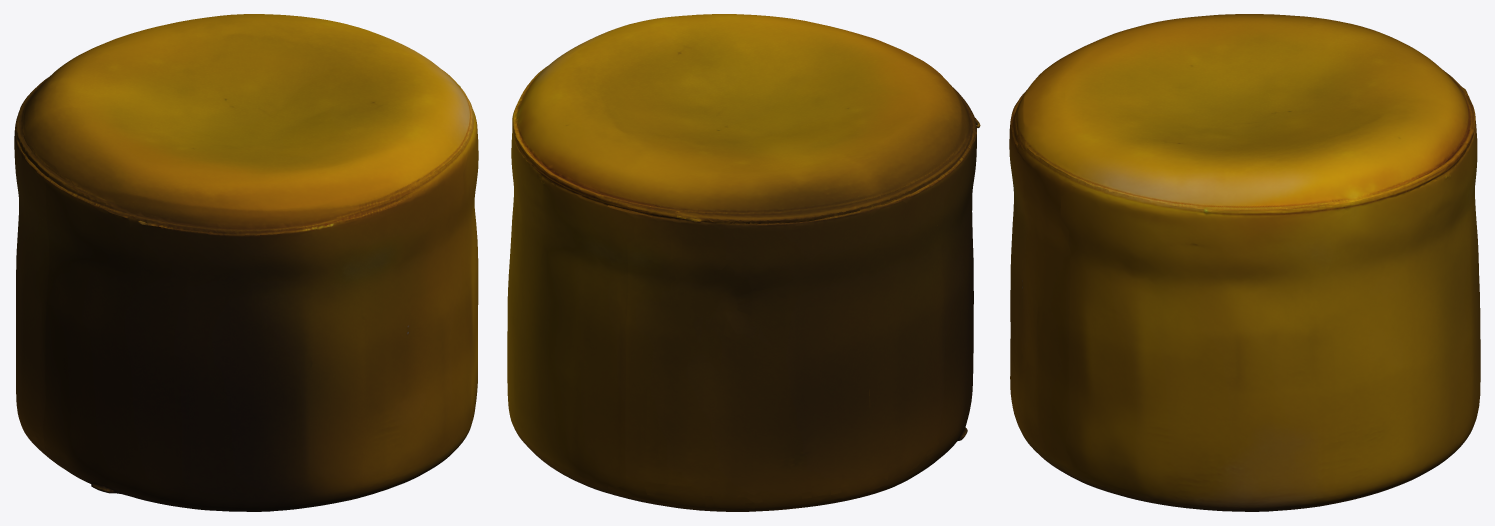
The picture shows the model from 3 angles, left to right: view 1: azimuth 30°, elevation 25°; view 2: azimuth 150°, elevation 25°; view 3: azimuth 270°, elevation 25°; orthographic projection.
Visible parts, largest first — view 1: geometry_0; view 2: geometry_0; view 3: geometry_0.
Boxes of the visible parts, x1=… form: geometry_0: x1=14, y1=14, x2=478, y2=511; geometry_0: x1=507, y1=14, x2=980, y2=511; geometry_0: x1=1009, y1=14, x2=1480, y2=511.
Bounding box in the file's own units: 0.9986 × 0.7954 × 0.9986.
1 material, 1 textured.
